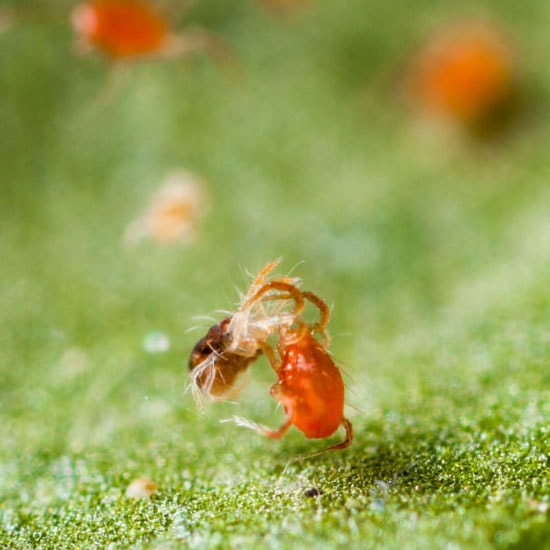Mites: (260, 259, 367, 483), (183, 254, 255, 418)
